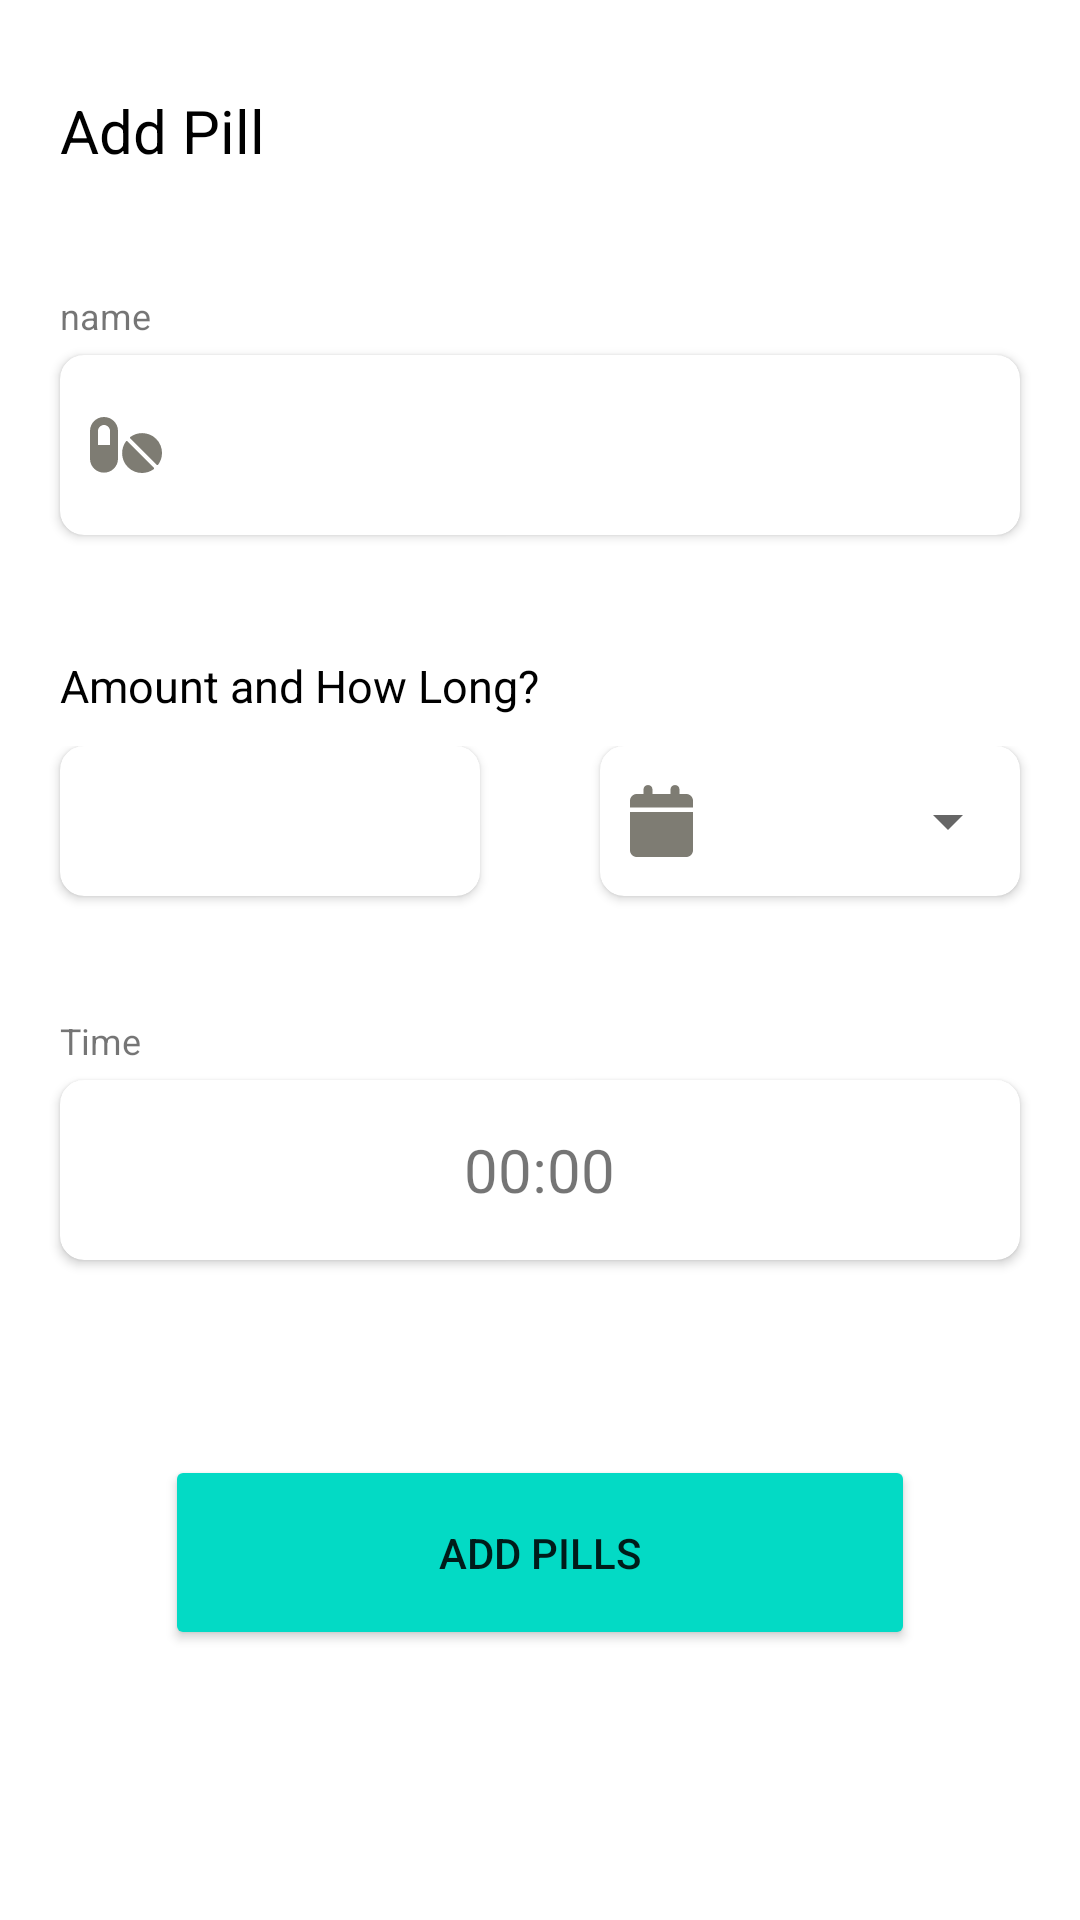

Icons on this 1080×1920 Android screen, each with its box as (x1, y1, x2, y2):
pills: (90, 417, 162, 473)
